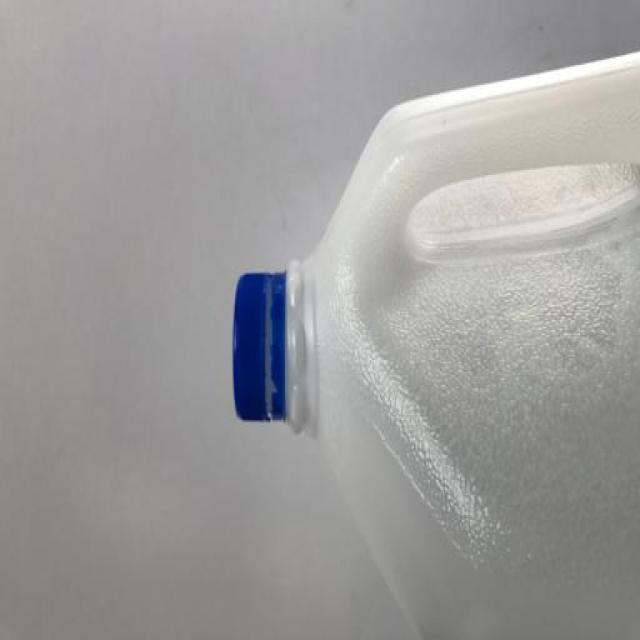plastic: (231, 39, 639, 638)
